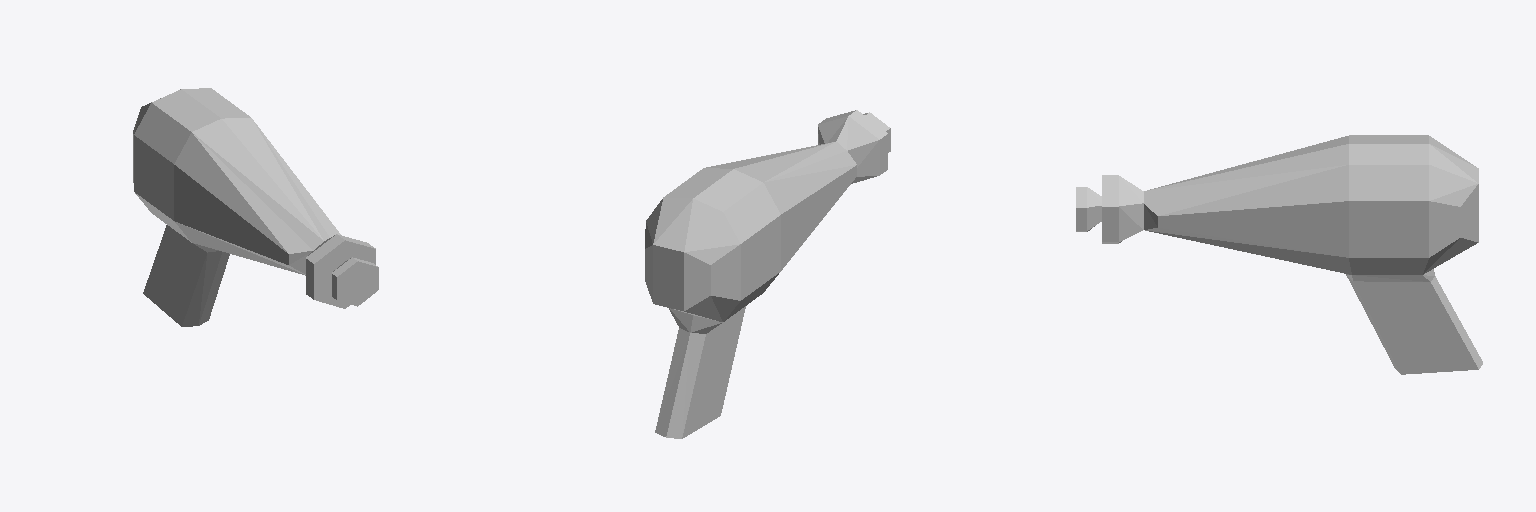
The model's file is 3dp_raygun_hi.obj.
The picture shows the model from 3 angles: view 1: azimuth 30°, elevation 25°; view 2: azimuth 150°, elevation 25°; view 3: azimuth 270°, elevation 25°; orthographic projection.
Parts seen in each view (by area): view 1: 3dpraygun; view 2: 3dpraygun; view 3: 3dpraygun.
Part boxes in pixels (x1,y1,x2,y2): 3dpraygun: (133,88,378,326); 3dpraygun: (645,110,890,438); 3dpraygun: (1076,135,1482,374).
Size of the model in its own units: 8.99 by 20.32 by 33.43.